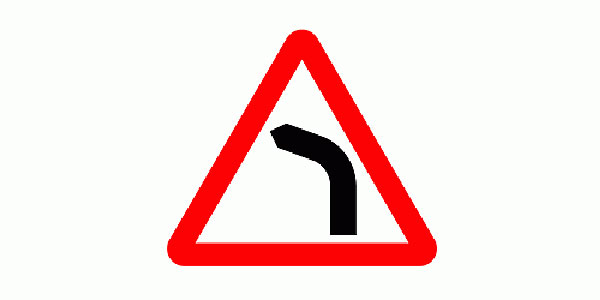Bend_to_left: (164, 30, 439, 268)
